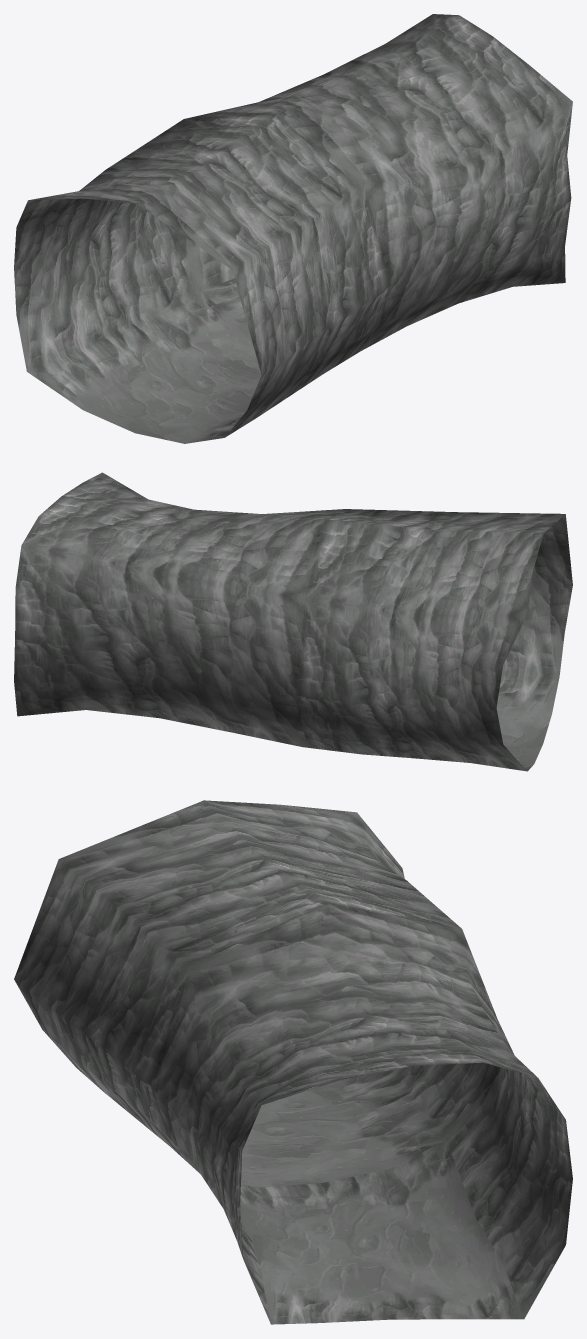
File: SWORDLIGHT20_PS-AREA01_04.fbx
The picture shows the model from 3 angles, top to bottom: view 1: azimuth 30°, elevation 25°; view 2: azimuth 150°, elevation 25°; view 3: azimuth 270°, elevation 25°; orthographic projection. The views are drawn at different scales.
Visible parts, largest first — view 1: SWORDLIGHT20_PS-AREA01_04; view 2: SWORDLIGHT20_PS-AREA01_04; view 3: SWORDLIGHT20_PS-AREA01_04.
Part boxes in pixels (box(x1,y1,x2,y2)): SWORDLIGHT20_PS-AREA01_04: box(14, 14, 572, 443); SWORDLIGHT20_PS-AREA01_04: box(14, 472, 572, 771); SWORDLIGHT20_PS-AREA01_04: box(14, 800, 572, 1324).
Size of the model in its own units: 190438 by 85134 by 150698.
Materials: 3 (3 with a texture image).
